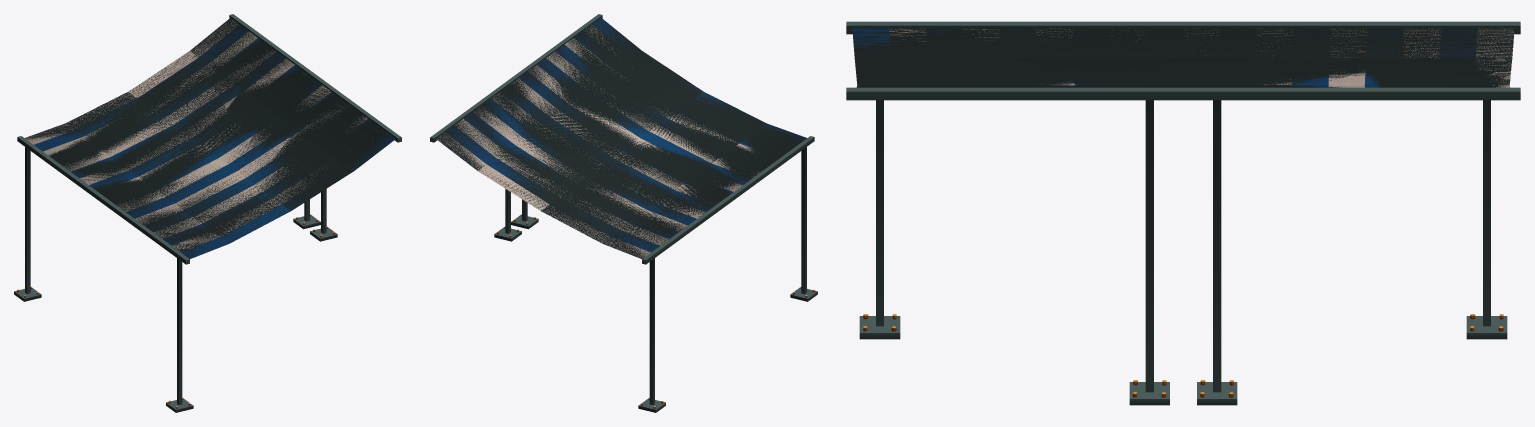
File: Canopy_1E.fbx
3 views of the same model, side by side, from view 1: azimuth 30°, elevation 25°; view 2: azimuth 150°, elevation 25°; view 3: azimuth 270°, elevation 25° (orthographic). The views are drawn at different scales.
Parts seen in each view (by area): view 1: Canopy_1E; view 2: Canopy_1E; view 3: Canopy_1E.
Part boxes in pixels (<box>): Canopy_1E: <box>14,14,401,412</box>; Canopy_1E: <box>430,14,817,412</box>; Canopy_1E: <box>846,21,1520,405</box>.
Size of the model in its own units: 15.7 by 14.64 by 20.
